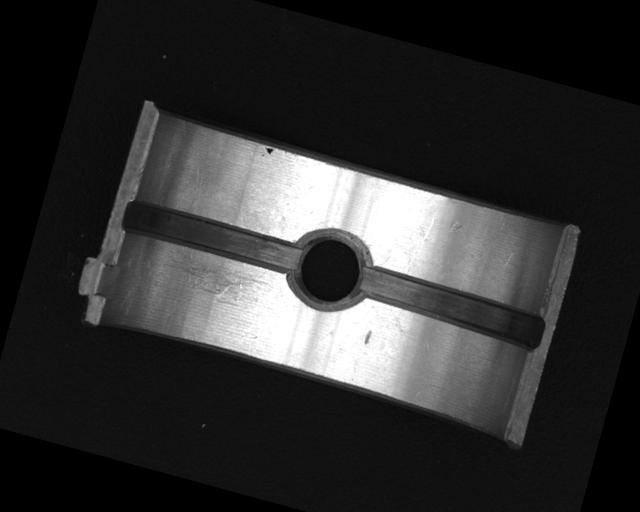blot: (262, 145, 274, 157)
bruise: (361, 327, 373, 346)
gap: (351, 262, 547, 353), (120, 196, 303, 279)
hole: (281, 220, 376, 315)
nick: (406, 215, 436, 277)
scratch: (157, 250, 274, 314)
